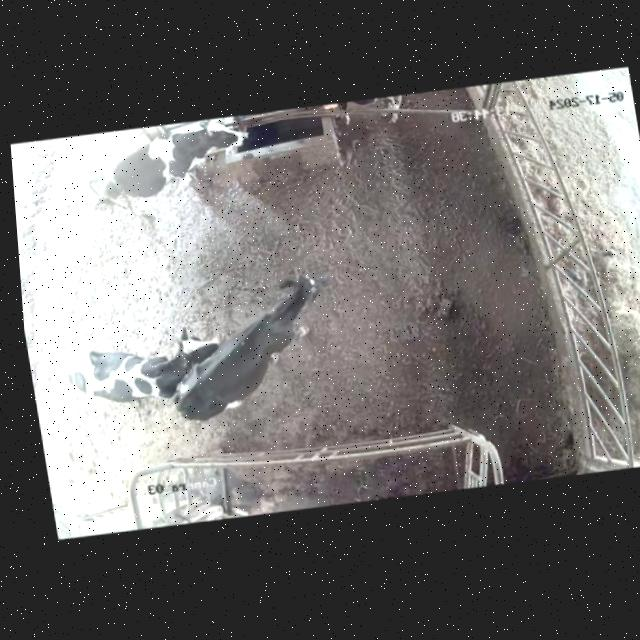stand: (144, 256, 363, 445), (69, 115, 253, 239), (54, 314, 231, 423)
